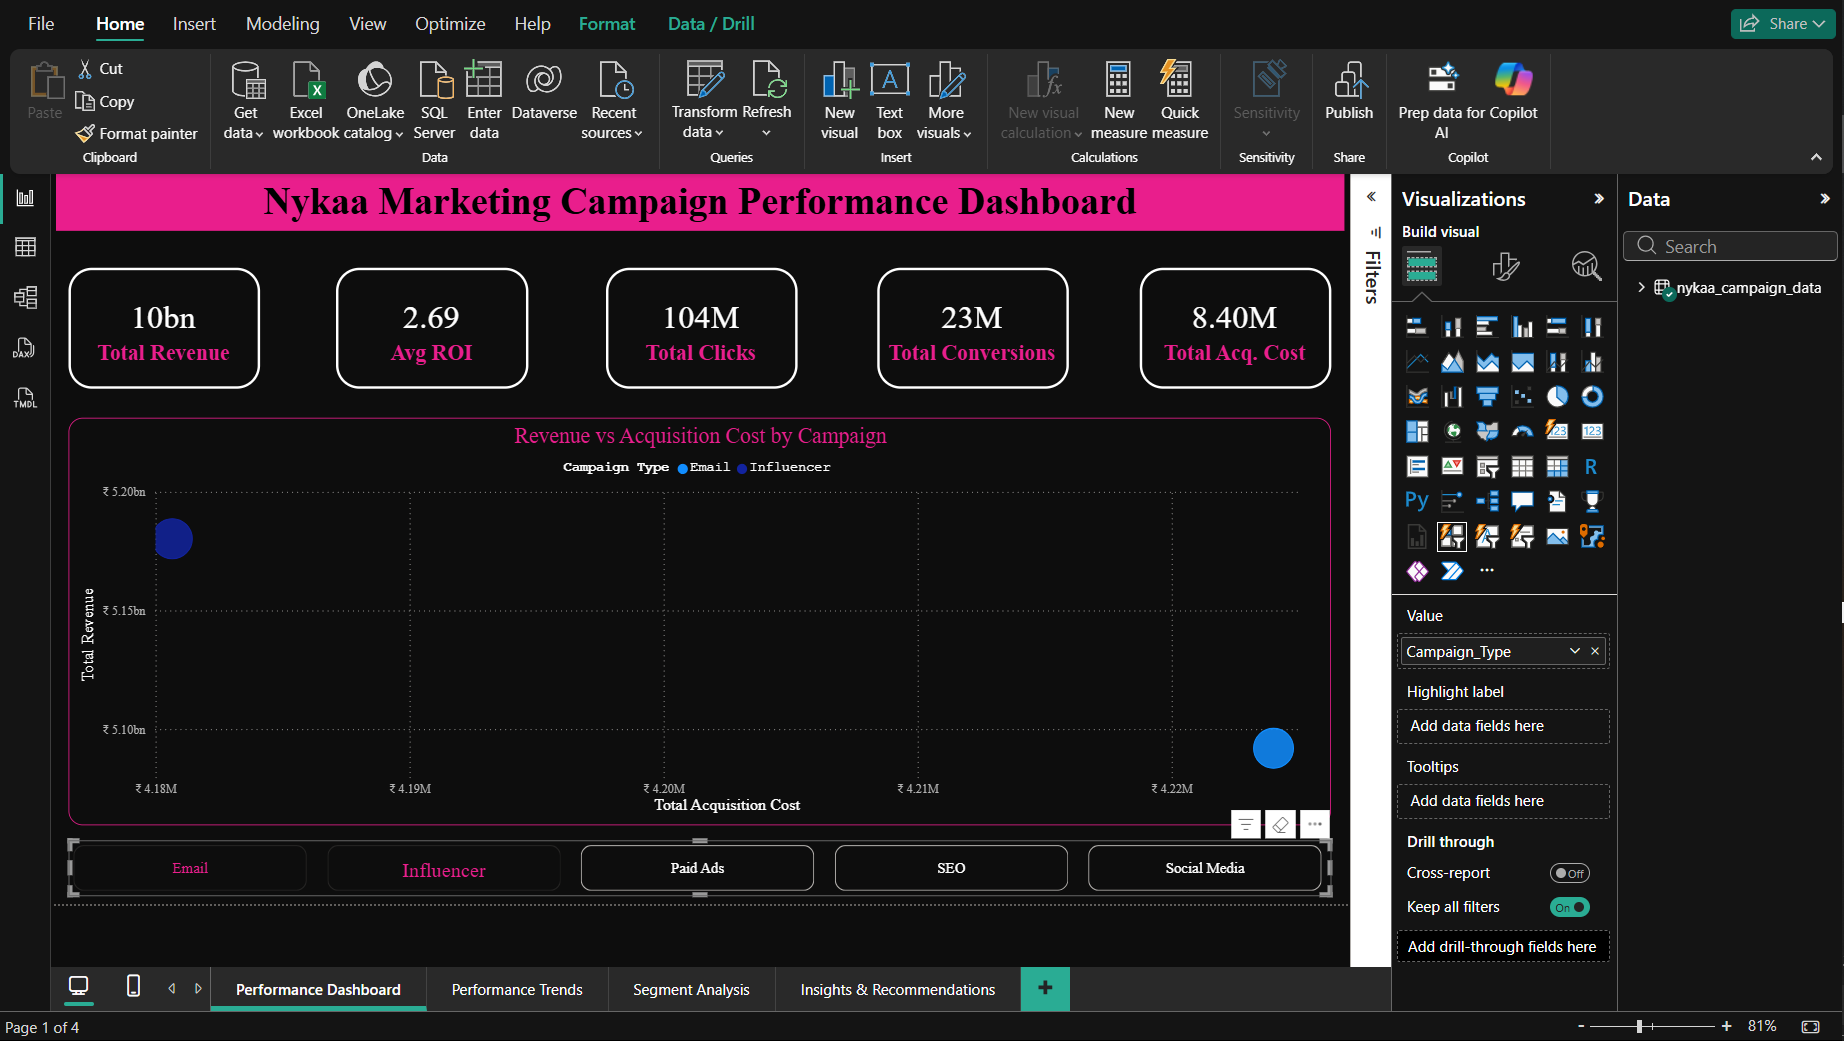

Layout of this report page (visuals, bound fields, positions):
{"tool":"powerbi","page":{"name":"Performance Dashboard","canvas":[1280,720],"ordinal":0},"visuals":[{"type":"textbox","box":[5.3,0,1269.4,55.8],"z":0},{"type":"card","fields":{"Values":["Sum(nykaa_campaign_data.Revenue)"]},"box":[17.2,92.4,188.5,119.5],"z":1000},{"type":"card","fields":{"Values":["Avg(nykaa_campaign_data.ROI)"]},"box":[280.8,92.4,189.7,119.5],"z":2000},{"type":"card","fields":{"Values":["Sum(nykaa_campaign_data.Clicks)"]},"box":[546.9,92.4,188.5,119.5],"z":3000},{"type":"card","fields":{"Values":["Sum(nykaa_campaign_data.Conversions)"]},"box":[814.2,92.4,188.5,119.5],"z":4000},{"type":"card","fields":{"Values":["Sum(nykaa_campaign_data.Acquisition_Cost)"]},"box":[1072.8,92.4,188.5,119.5],"z":5000},{"type":"scatterChart","title":"Revenue vs Acquisition Cost by Campaign","fields":{"X":["Sum(nykaa_campaign_data.Acquisition_Cost)"],"Y":["Sum(nykaa_campaign_data.Revenue)"],"Series":["nykaa_campaign_data.Campaign_Type"],"Size":["Sum(nykaa_campaign_data.Conversions)"]},"box":[17.2,240.2,1244,401.5],"z":6500},{"type":"advancedSlicerVisual","title":"Campaign Type","fields":{"Values":["nykaa_campaign_data.Campaign_Type"]},"box":[17.2,656.5,1244,55.4],"z":7000}]}

Visuals, with their boxes on the page's 1280x720 design canvas (x1, y1, x2, y2). These are canvas units, not pixel positions in the 1844x1041 screenshot, which may show the page scaled, cropped or inside an application window:
textbox: pyautogui.locateOnScreen(5, 0, 1275, 56)
card - Sum(nykaa_campaign_data.Revenue): pyautogui.locateOnScreen(17, 92, 206, 212)
card - Avg(nykaa_campaign_data.ROI): pyautogui.locateOnScreen(281, 92, 470, 212)
card - Sum(nykaa_campaign_data.Clicks): pyautogui.locateOnScreen(547, 92, 735, 212)
card - Sum(nykaa_campaign_data.Conversions): pyautogui.locateOnScreen(814, 92, 1003, 212)
card - Sum(nykaa_campaign_data.Acquisition_Cost): pyautogui.locateOnScreen(1073, 92, 1261, 212)
"Revenue vs Acquisition Cost by Campaign" scatterChart: pyautogui.locateOnScreen(17, 240, 1261, 642)
"Campaign Type" advancedSlicerVisual: pyautogui.locateOnScreen(17, 656, 1261, 712)
